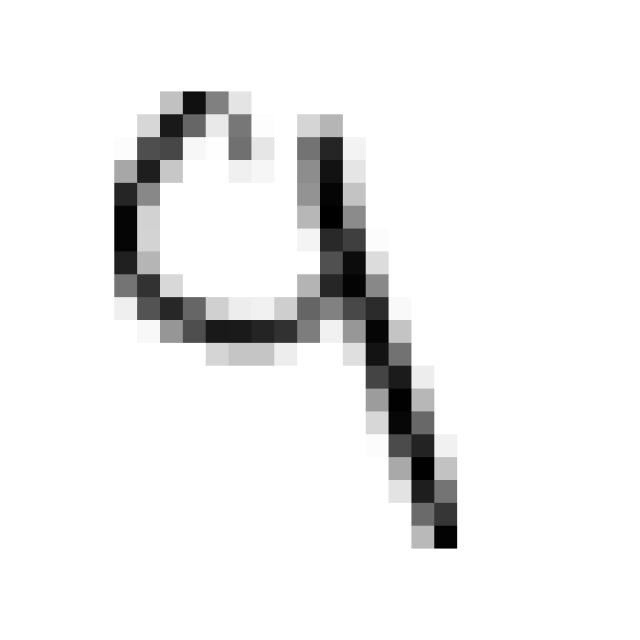9 -nine-: (87, 76, 477, 578)
